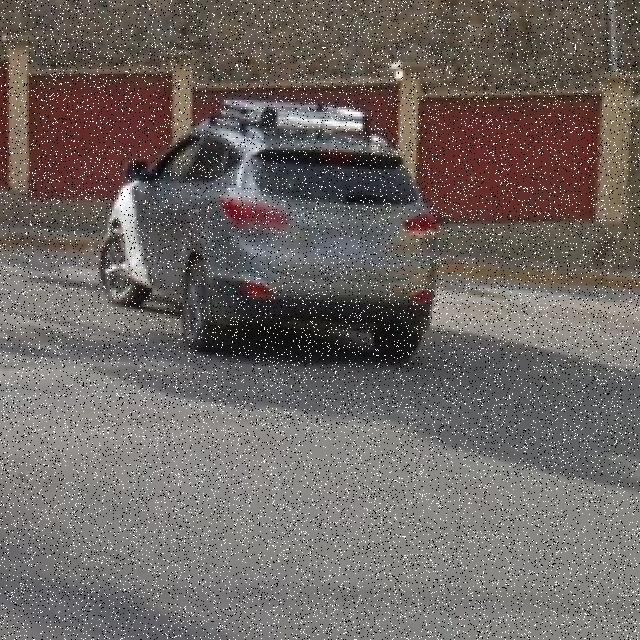cars: (103, 99, 446, 364)
